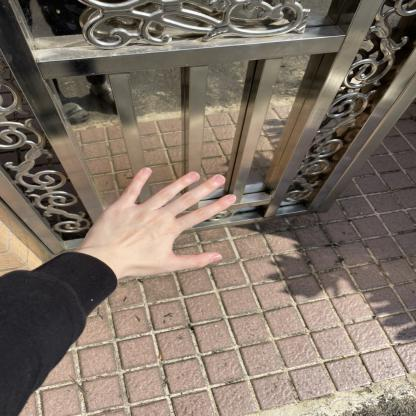bare_hand: (82, 155, 242, 281)
